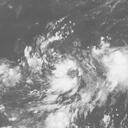cyclone: (51, 59, 86, 96)
